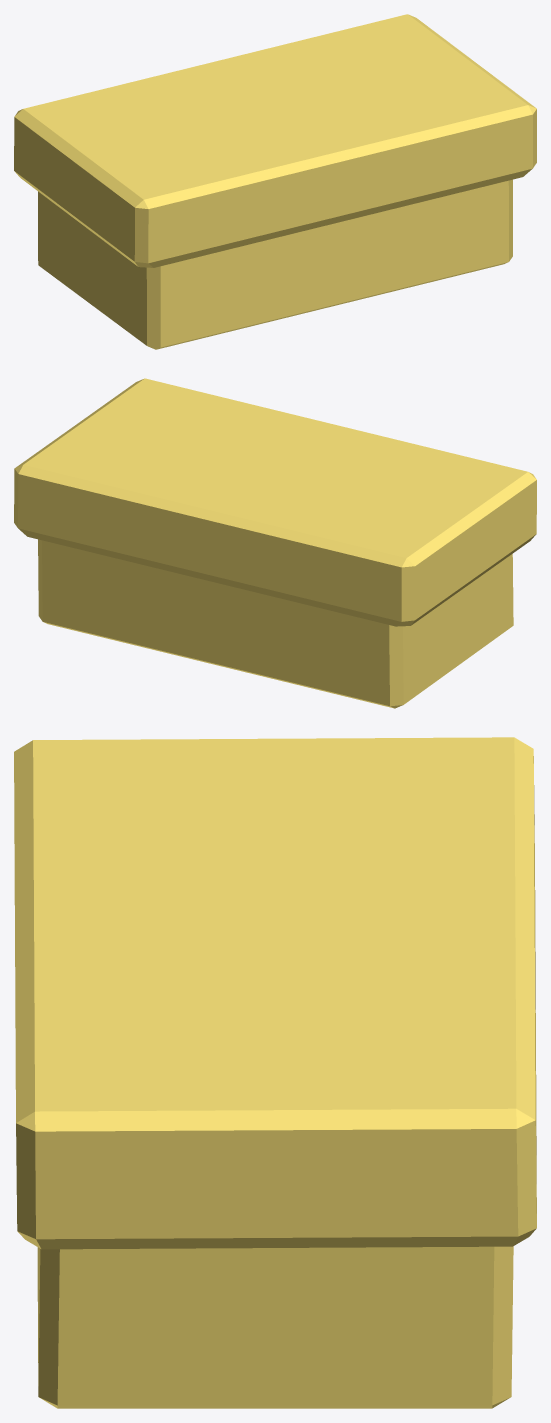
Rendered from Ottoman_2.fbx.
3 renders of one model, top to bottom at view 1: azimuth 30°, elevation 25°; view 2: azimuth 150°, elevation 25°; view 3: azimuth 270°, elevation 25°, orthographic. The views are drawn at different scales.
Visible parts, largest first — view 1: Ottoman_2; view 2: Ottoman_2; view 3: Ottoman_2.
Part boxes in pixels (bbox=[...]): Ottoman_2: bbox=[14, 14, 536, 349]; Ottoman_2: bbox=[14, 378, 536, 708]; Ottoman_2: bbox=[14, 737, 536, 1408].
Size of the model in its own units: 151 by 85.55 by 57.52.
